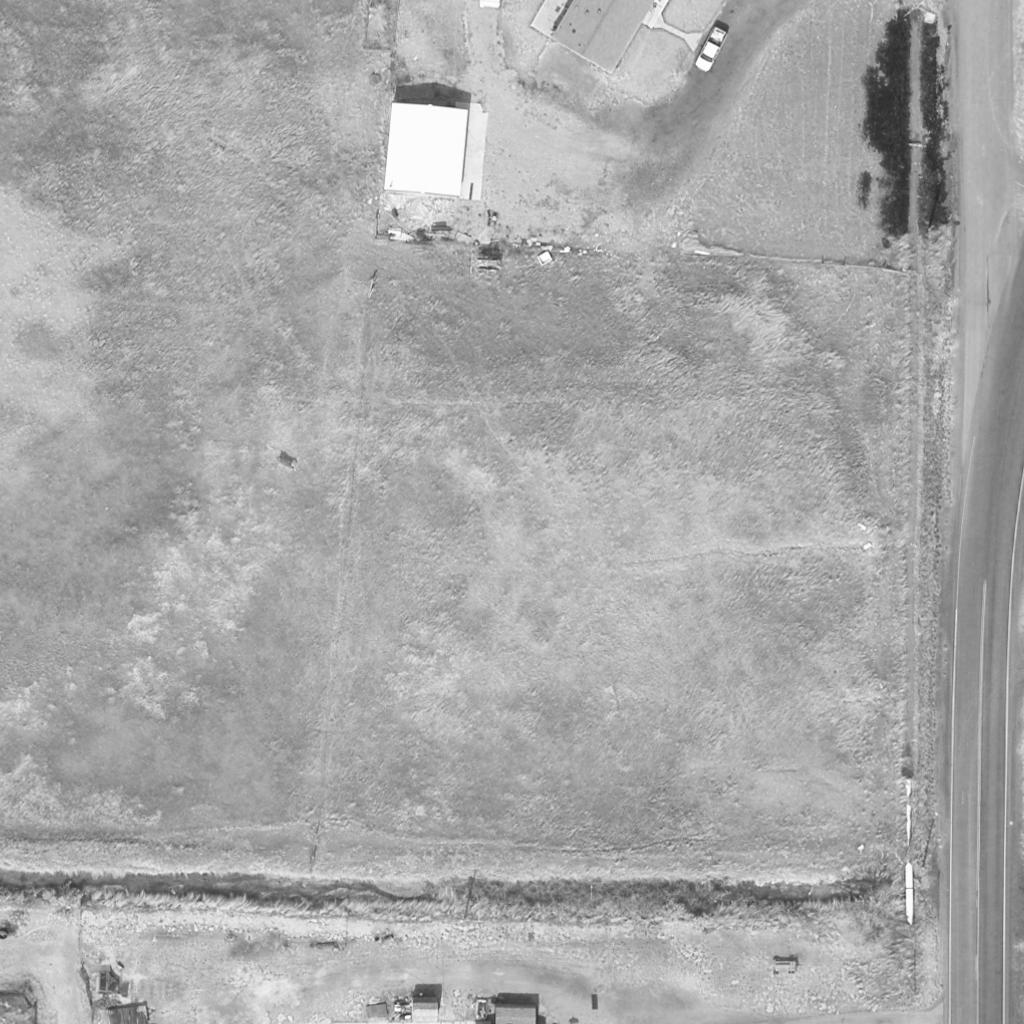vehicle: (693, 24, 729, 74)
